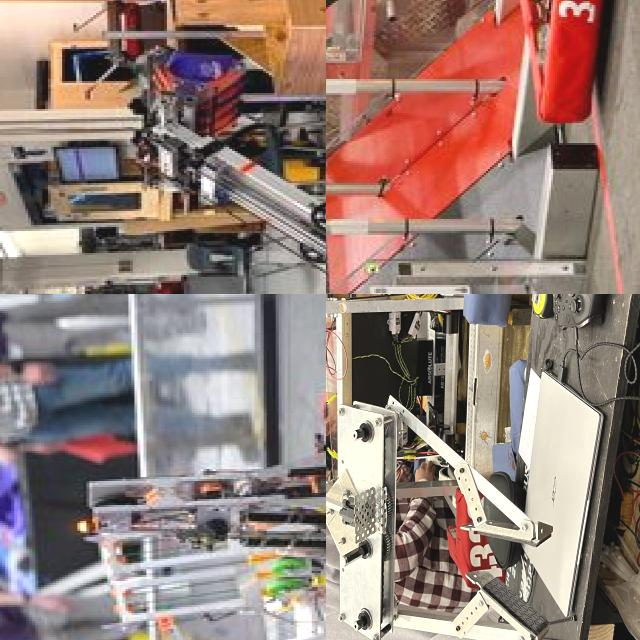FRC-Robots: (326, 0, 607, 294), (46, 370, 326, 640), (326, 294, 531, 640), (98, 49, 326, 294)
